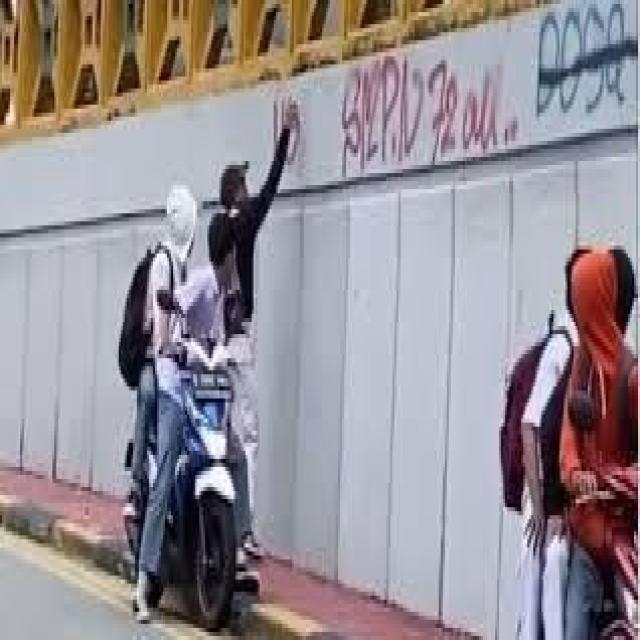nonspitting: (342, 56, 520, 178), (535, 0, 640, 121), (272, 96, 300, 166)
